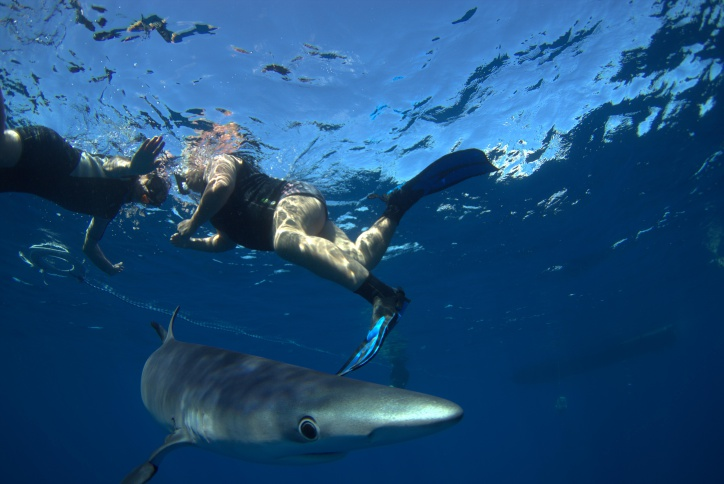Azul: (121, 300, 486, 484)
